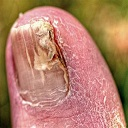Nail Fungal Infection: (14, 19, 81, 94)
